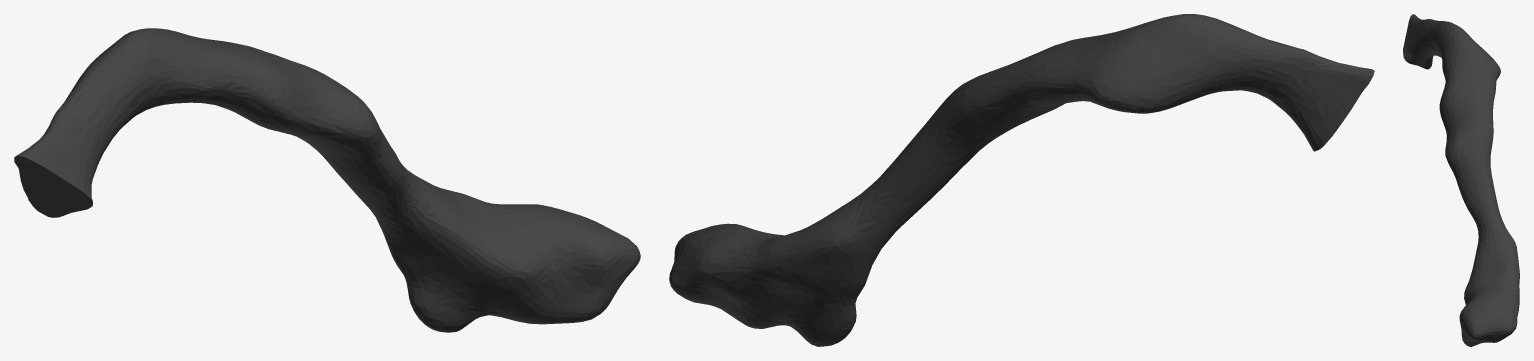
Rendered from Ventricle_4_lat_recess_L.glb.
The picture shows the model from 3 angles, left to right: view 1: azimuth 30°, elevation 25°; view 2: azimuth 150°, elevation 25°; view 3: azimuth 270°, elevation 25°; orthographic projection. The views are drawn at different scales.
Parts seen in each view (by area): view 1: Ventricle_4_lat_recess_L; view 2: Ventricle_4_lat_recess_L; view 3: Ventricle_4_lat_recess_L.
Boxes of the visible parts, x1,y1,x2,y2 form: Ventricle_4_lat_recess_L: (14,28,640,332); Ventricle_4_lat_recess_L: (669,14,1374,346); Ventricle_4_lat_recess_L: (1403,14,1519,346).
Bounding box in the file's own units: 0.0232 × 0.0134 × 0.00685.
1 material, 1 textured.
